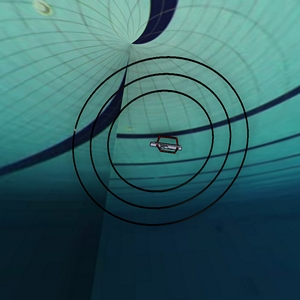circle: (51, 29, 253, 233)
submarine: (143, 122, 191, 161)
